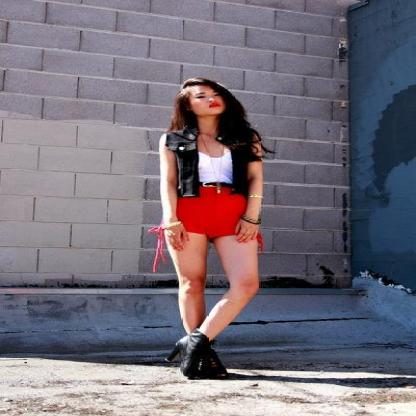jacket: (165, 142, 261, 201)
shirt: (199, 148, 232, 186)
shoe: (178, 324, 218, 364)
skirt: (176, 183, 248, 236)
